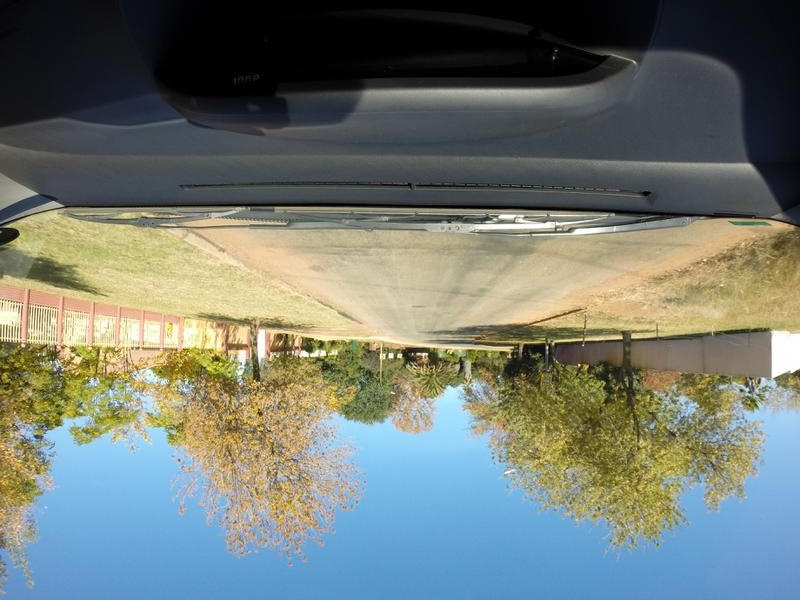pothole: (415, 302, 429, 310)
